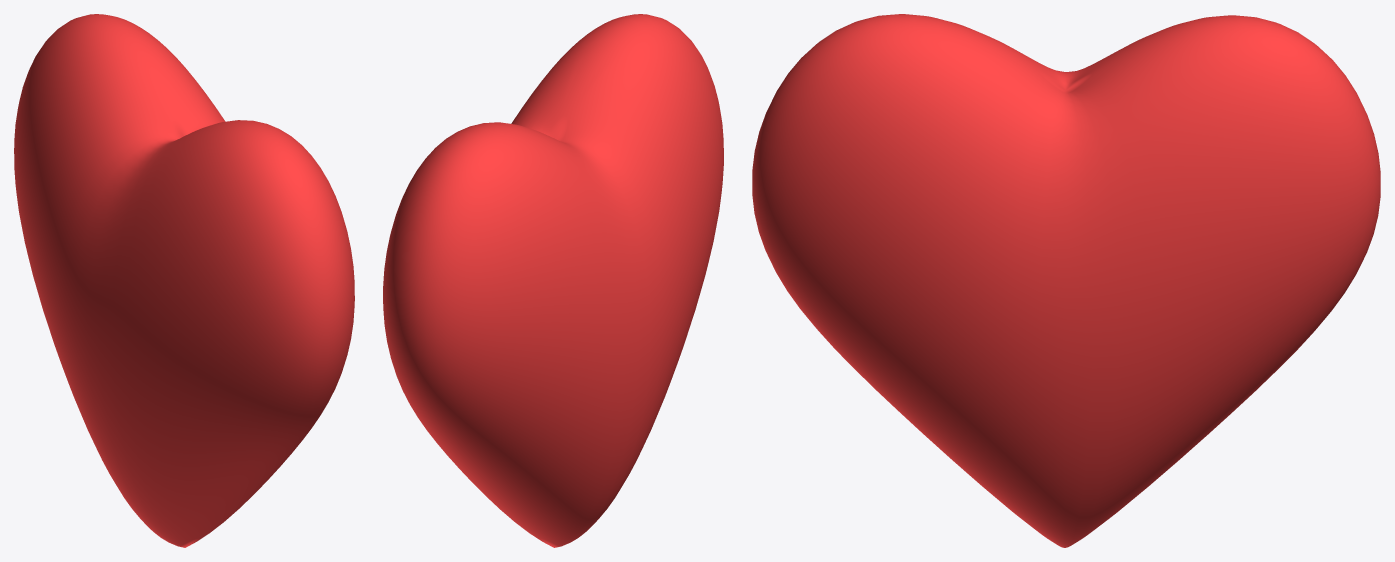
File: heart.fbx
The picture shows the model from 3 angles, left to right: view 1: azimuth 30°, elevation 25°; view 2: azimuth 150°, elevation 25°; view 3: azimuth 270°, elevation 25°; orthographic projection. The views are drawn at different scales.
Parts seen in each view (by area): view 1: Heart; view 2: Heart; view 3: Heart.
Part boxes in pixels (x1,y1,x2,y2): Heart: [14, 14, 354, 547]; Heart: [383, 14, 723, 547]; Heart: [752, 14, 1380, 547].
Size of the model in its own units: 1.12 by 2.61 by 2.81.
Materials: 1 (1 with a texture image).
